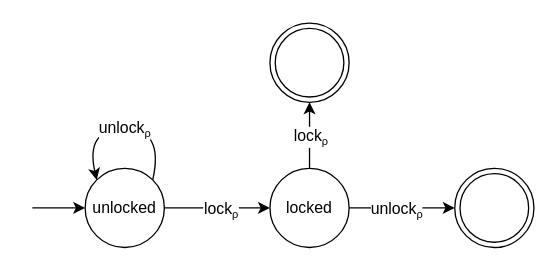
Some shapes in this 557 by 271 pixel diagram are drawn without their labels. Each missing label, with the centre of its shape:
"error" goes at (x=309, y=62).
"unlocked final" goes at (x=493, y=207).
